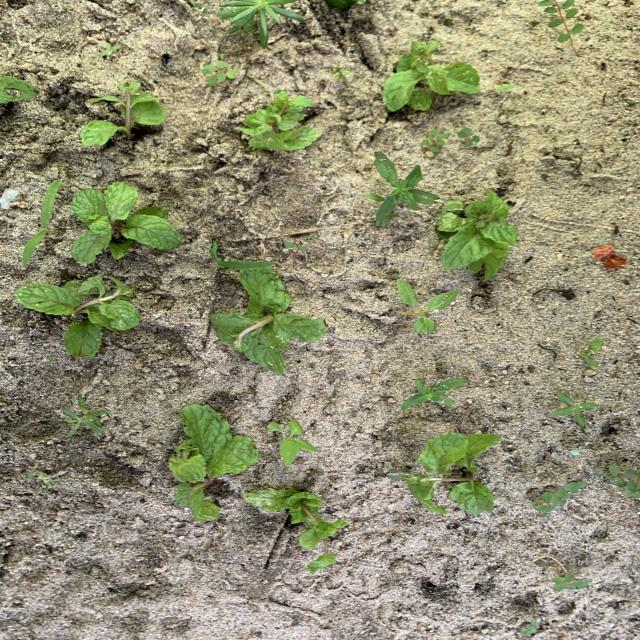crop: (210, 268, 326, 374), (15, 277, 139, 358), (171, 404, 258, 519), (243, 488, 348, 572), (71, 183, 181, 263), (402, 433, 499, 513), (437, 188, 518, 278), (383, 41, 479, 110), (81, 83, 166, 146), (239, 90, 320, 149), (1, 77, 37, 103)
weed: (364, 154, 438, 226), (218, 0, 303, 48), (394, 280, 459, 331), (22, 181, 59, 263), (267, 421, 316, 467), (401, 378, 468, 410), (532, 555, 591, 590), (61, 395, 109, 436), (533, 481, 587, 516), (210, 241, 271, 270), (539, 0, 581, 40), (553, 392, 596, 426), (596, 464, 639, 497), (21, 466, 64, 494), (203, 61, 235, 83), (552, 572, 591, 590), (580, 338, 602, 367), (422, 129, 447, 152), (458, 127, 479, 145), (285, 239, 307, 251), (388, 463, 410, 474), (100, 43, 120, 55), (331, 66, 351, 78), (522, 619, 538, 634), (494, 84, 514, 93), (561, 431, 567, 438), (570, 451, 579, 455)
